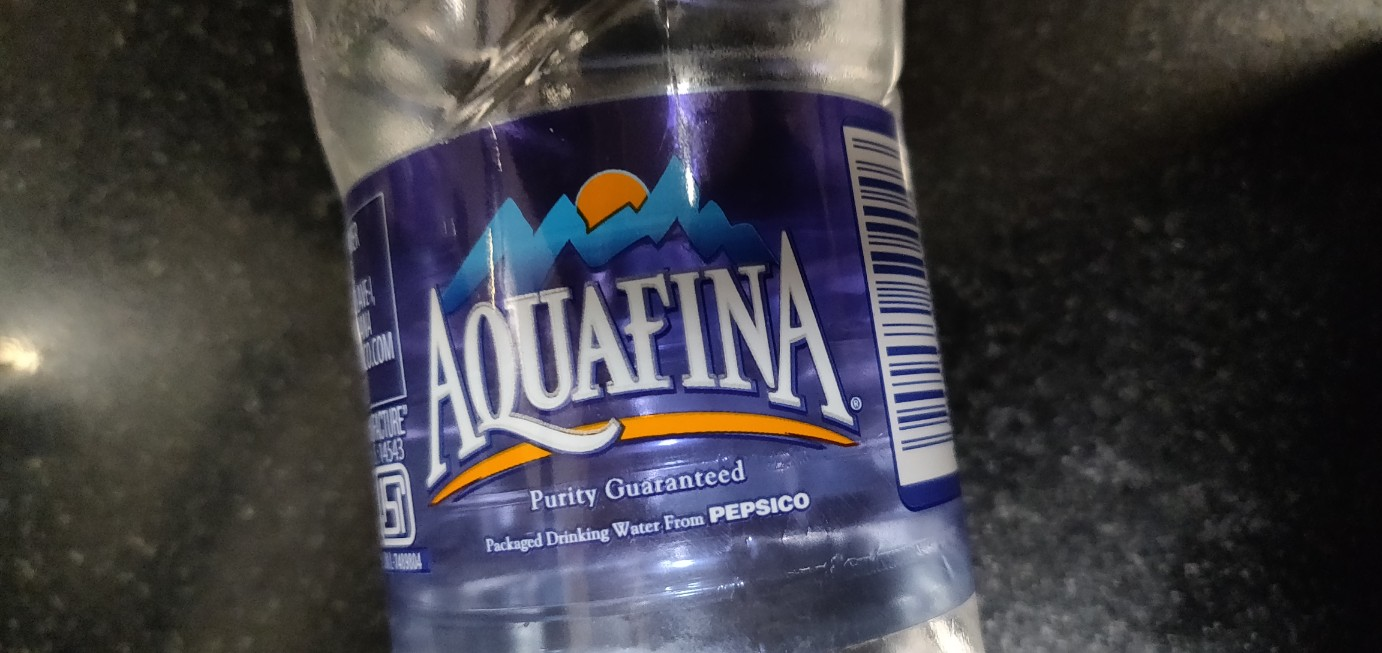Electronics: (269, 4, 1008, 653)
